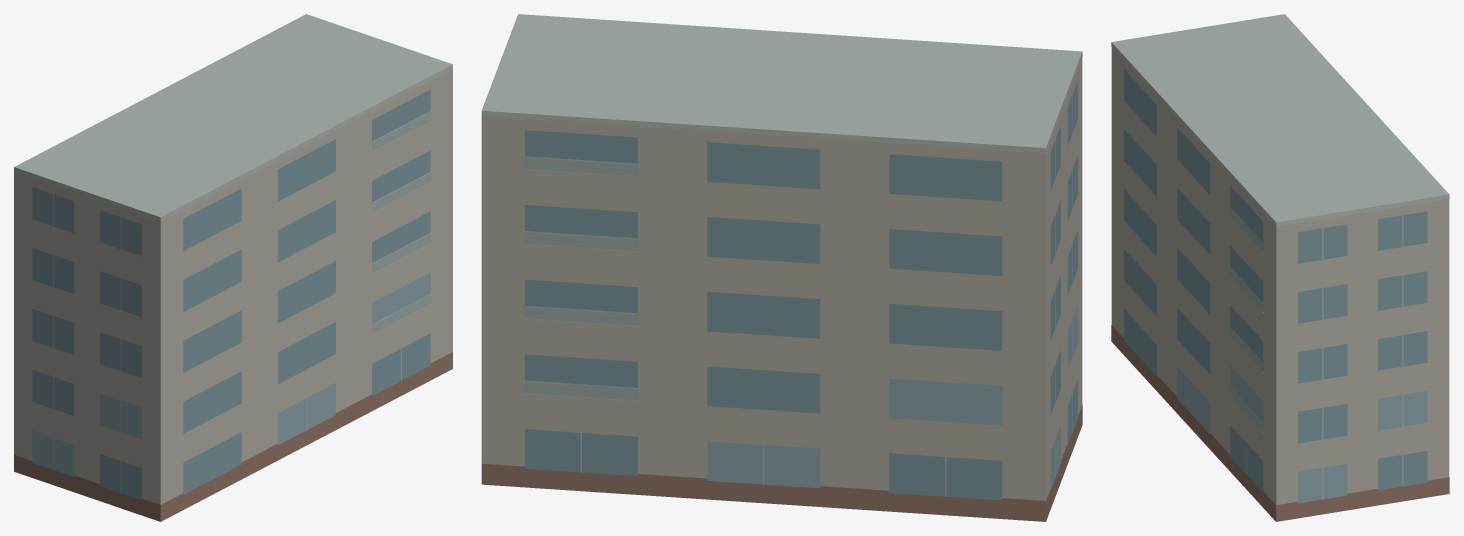
File: survey-upis-32849959.glb
The picture shows the model from 3 angles, left to right: view 1: azimuth 30°, elevation 25°; view 2: azimuth 150°, elevation 25°; view 3: azimuth 270°, elevation 25°; orthographic projection. The views are drawn at different scales.
Visible parts, largest first — view 1: survey-upis-32849959.tmp; view 2: survey-upis-32849959.tmp; view 3: survey-upis-32849959.tmp.
Part boxes in pixels (x1,y1,x2,y2): survey-upis-32849959.tmp: (14, 14, 452, 521); survey-upis-32849959.tmp: (481, 14, 1082, 521); survey-upis-32849959.tmp: (1111, 14, 1449, 521).
Bounding box in the file's own units: 24.49 × 16.4 × 16.78.
